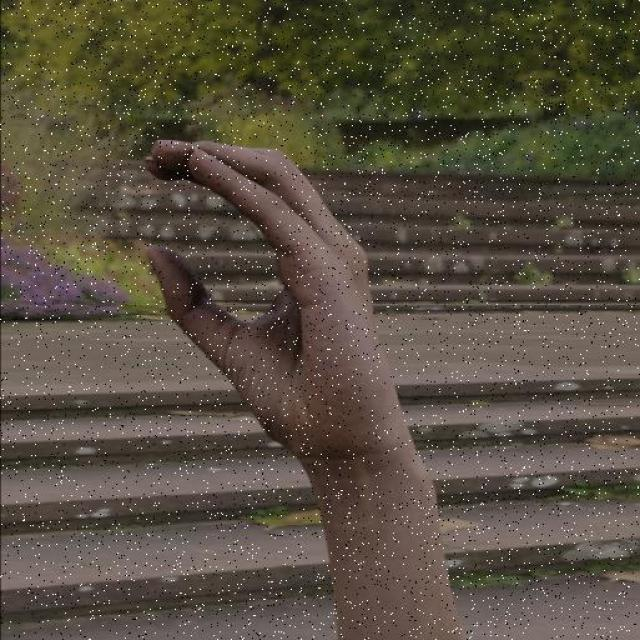C: (141, 136, 410, 470)
